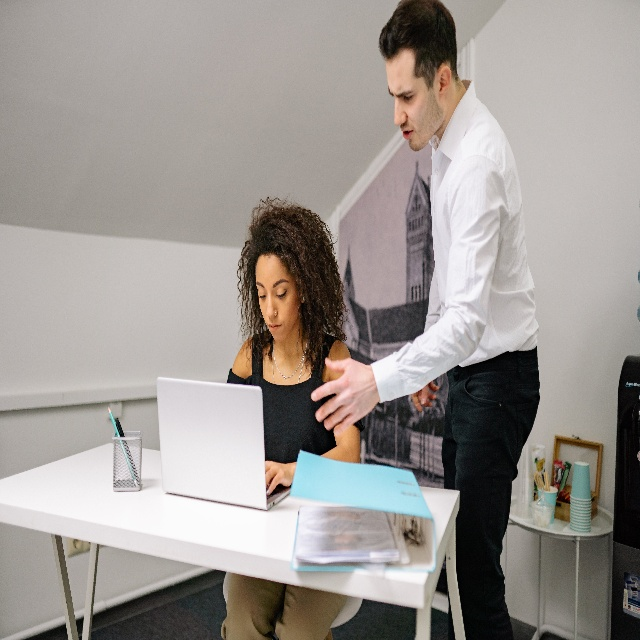Sin_guantes: (310, 352, 383, 437), (263, 459, 294, 497), (412, 376, 440, 414)
